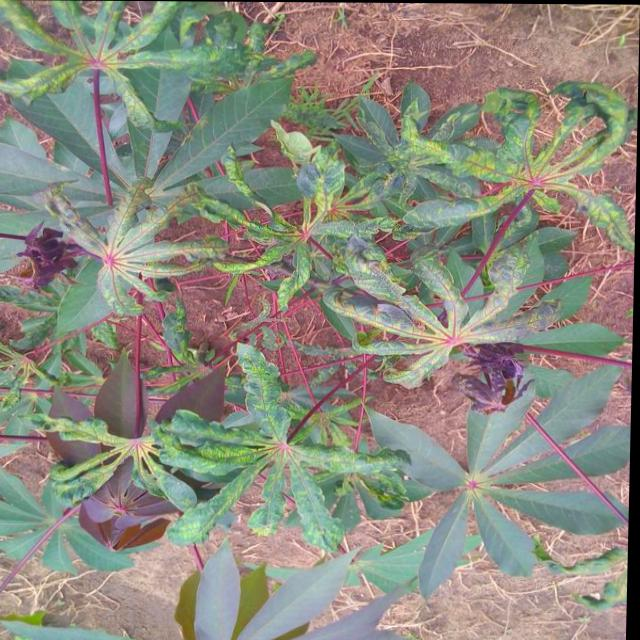Mosaico: (123, 305, 403, 561), (332, 211, 582, 407), (359, 100, 640, 247), (26, 396, 266, 563), (198, 140, 383, 323), (26, 154, 175, 330), (20, 0, 196, 126)
